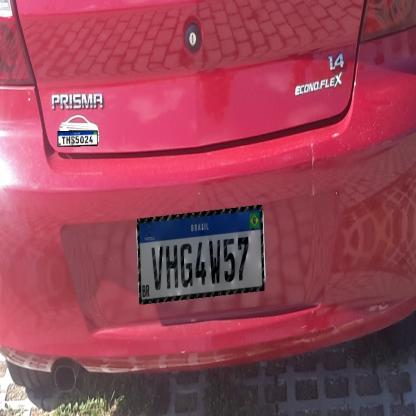PlacaM: (137, 205, 264, 304), (58, 130, 98, 147)
